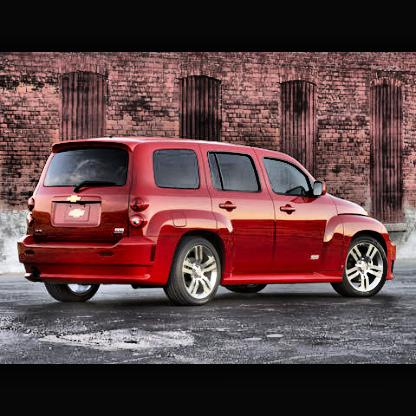Chevrolet HHR SS 2010: (18, 135, 401, 308)
